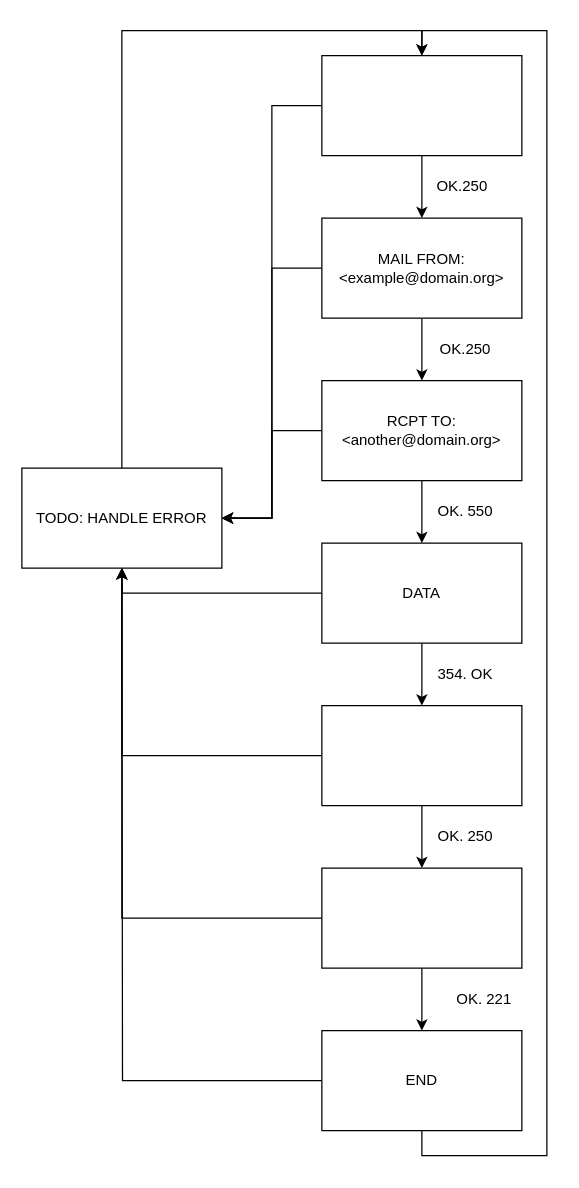
Image size: 579x1188. Some labels were removed from this diagram. Each missing label, with the centre of its shape:
"FILL DATA" goes at (421,755).
"HELO" goes at (421,105).
"QUIT" goes at (421,917).
